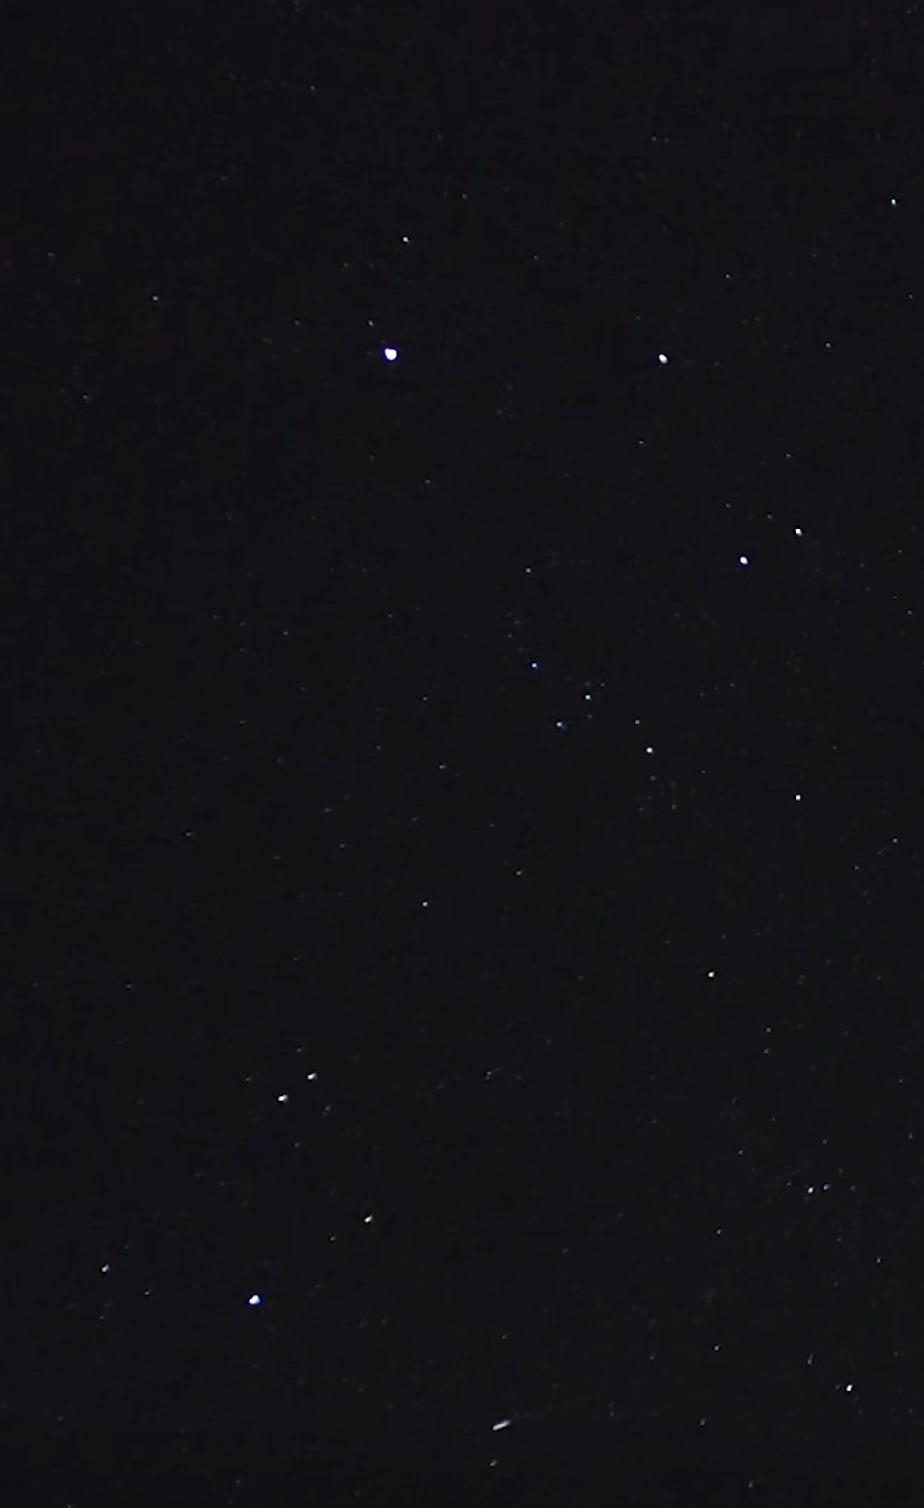meteorite: (482, 1377, 591, 1455)
